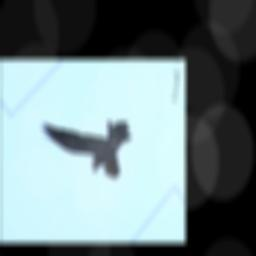Crow: (35, 117, 132, 179)
